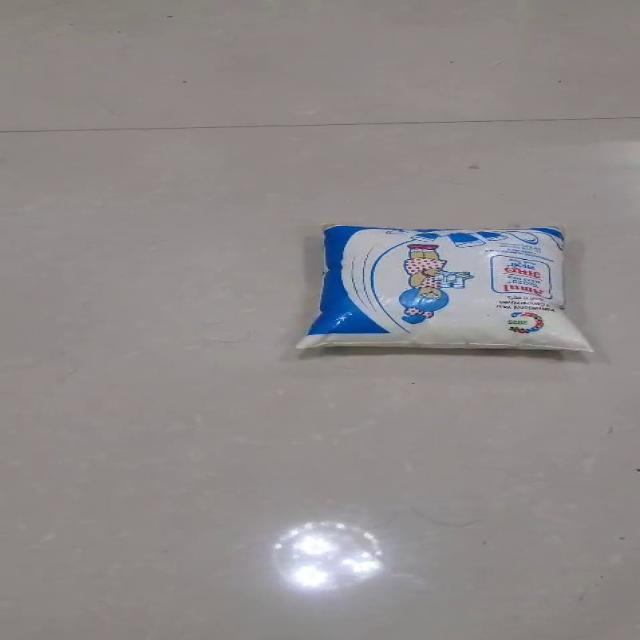plastic: (293, 223, 593, 352)
